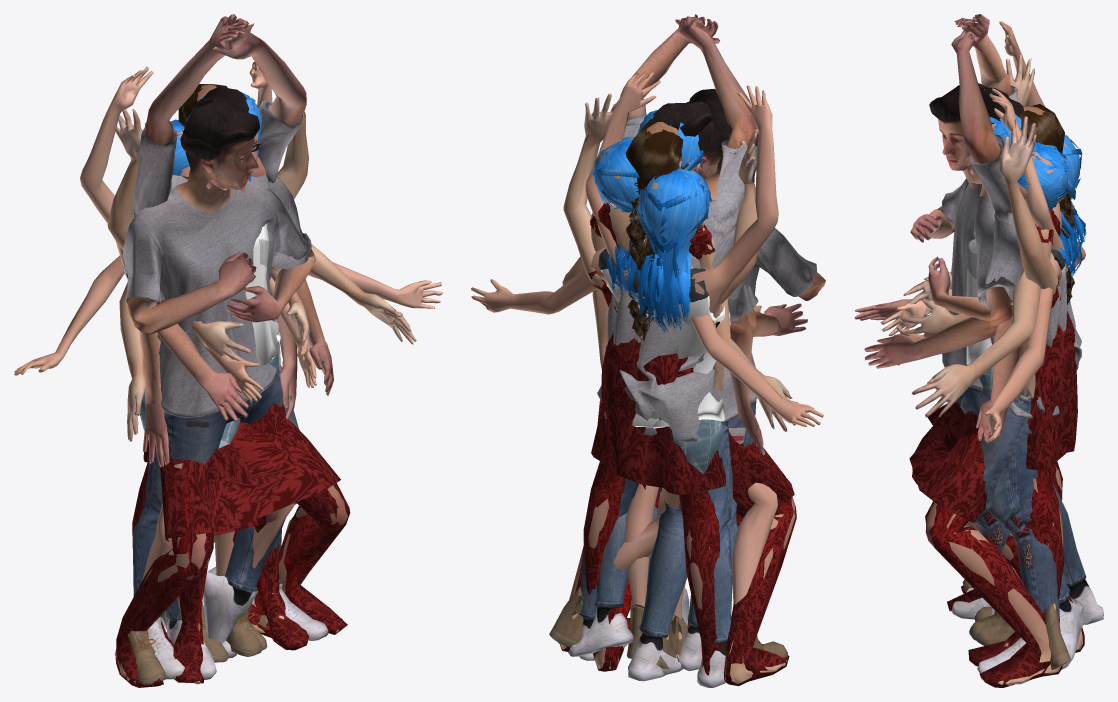
Rendered from festival-people.glb.
3 renders of one model, left to right at view 1: azimuth 30°, elevation 25°; view 2: azimuth 150°, elevation 25°; view 3: azimuth 270°, elevation 25°, orthographic. The views are drawn at different scales.
Parts seen in each view (by area): view 1: manuel-groove, red-hands-up, manuel-hands-up, manuel-work, red-groove, kandace-hands-up, kandace-groove, manuel-stand, red-work, kandace-work, kandace-stand; view 2: kandace-hands-up, manuel-hands-up, red-work, red-hands-up, kandace-groove, manuel-groove, manuel-work, red-stand, kandace-work, manuel-stand, red-groove; view 3: red-hands-up, manuel-groove, manuel-hands-up, red-work, manuel-work, red-groove, kandace-groove, kandace-hands-up, manuel-stand, kandace-work, red-stand, kandace-stand.
Part boxes in pixels (x1,y1,x2,y2): manuel-groove: (123,101,315,680); red-hands-up: (107,91,350,687); manuel-hands-up: (133,14,306,658); manuel-work: (133,112,333,679); red-groove: (119,179,416,684); kandace-hands-up: (80,61,272,684); kandace-groove: (14,104,442,656); manuel-stand: (133,111,328,679); red-work: (132,84,309,650); kandace-work: (186,91,316,662); kandace-stand: (203,95,280,647); kandace-hands-up: (549,71,787,657); manuel-hands-up: (597,14,758,681); red-work: (583,118,725,675); red-hands-up: (559,93,796,686); kandace-groove: (471,136,823,669); manuel-groove: (568,89,825,670); manuel-work: (579,123,807,687); red-stand: (590,162,724,618); kandace-work: (624,110,761,658); manuel-stand: (579,121,764,687); red-groove: (562,256,795,671); red-hands-up: (909,55,1074,687); manuel-groove: (910,83,1083,669); manuel-hands-up: (951,14,1103,624); red-work: (900,104,1077,666); manuel-work: (854,139,1060,673); red-groove: (911,182,1084,652); kandace-groove: (965,141,1085,640); kandace-hands-up: (960,21,1086,669); manuel-stand: (966,218,1059,673); kandace-work: (880,106,1026,645); red-stand: (969,191,1077,661); kandace-stand: (963,124,1014,635).
Size of the model in its own units: 0.7373 by 1.16 by 0.4253.
11 materials, 10 textured.
